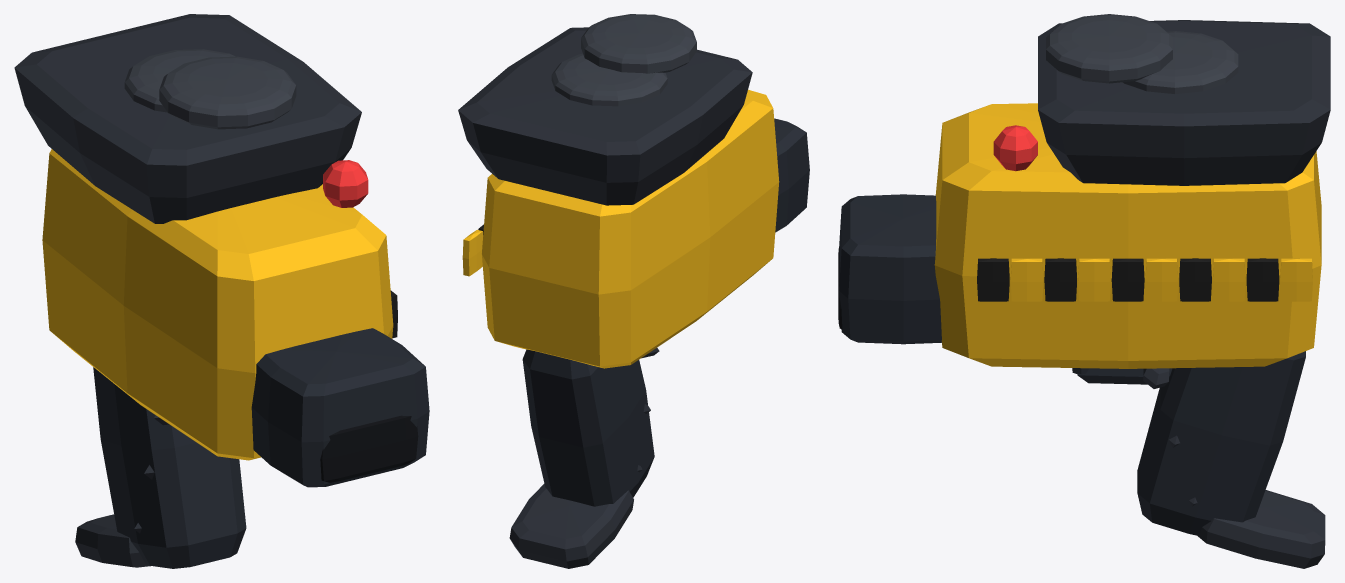
File: g-x-mines.glb
The picture shows the model from 3 angles, left to right: view 1: azimuth 30°, elevation 25°; view 2: azimuth 150°, elevation 25°; view 3: azimuth 270°, elevation 25°; orthographic projection. The views are drawn at different scales.
Visible parts, largest first — view 1: gun; view 2: gun; view 3: gun.
Boxes of the visible parts, x1,y1,x2,y2 form: gun: (14, 14, 429, 568); gun: (458, 14, 809, 568); gun: (838, 14, 1330, 568).
Bounding box in the file's own units: 0.2691 × 0.6086 × 0.5263.
